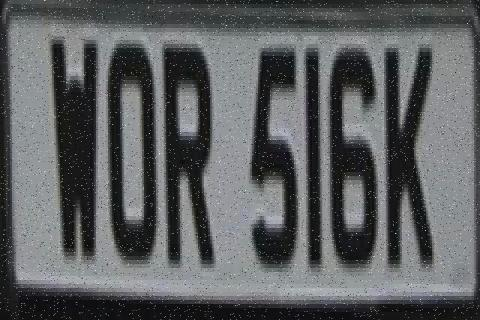LicensePlate: (7, 22, 476, 304)
